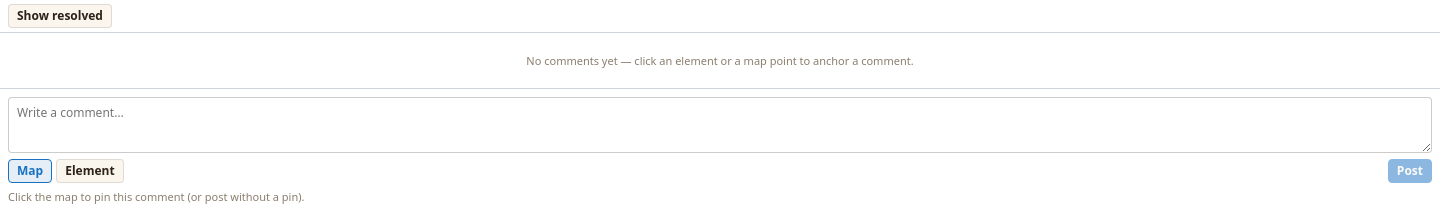
Test: CommentsPanel › enables Post as soon as text is present (anchor defaults to origin)
Expected: the button with test id "comments-submit" is disabled, x1=1388 y1=159 x2=1432 y2=183
Type "hello" into the text box with test id "comments-composer-text" at (720, 125), box x1=8 y1=97 x2=1432 y2=153
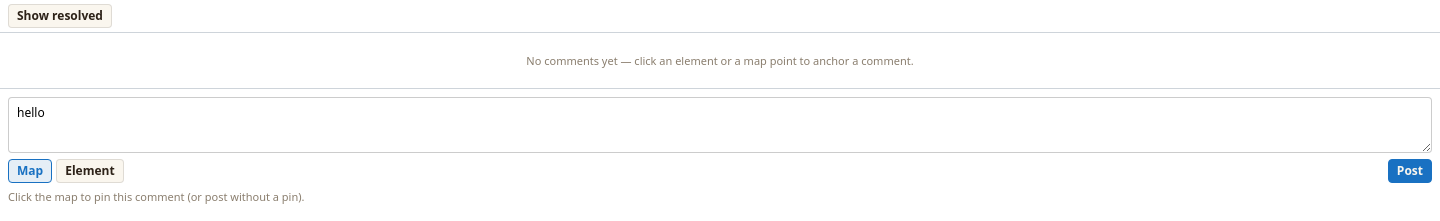
Now the button with test id "comments-submit" is enabled, box x1=1388 y1=159 x2=1432 y2=183
